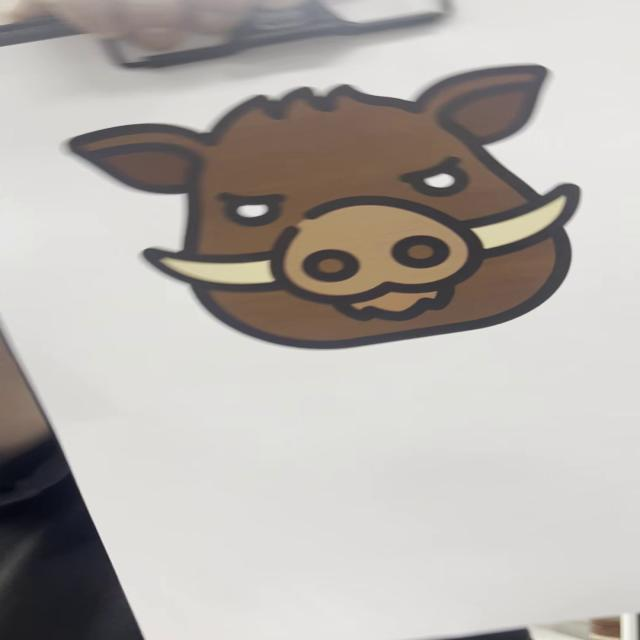animal: (72, 64, 589, 352)
